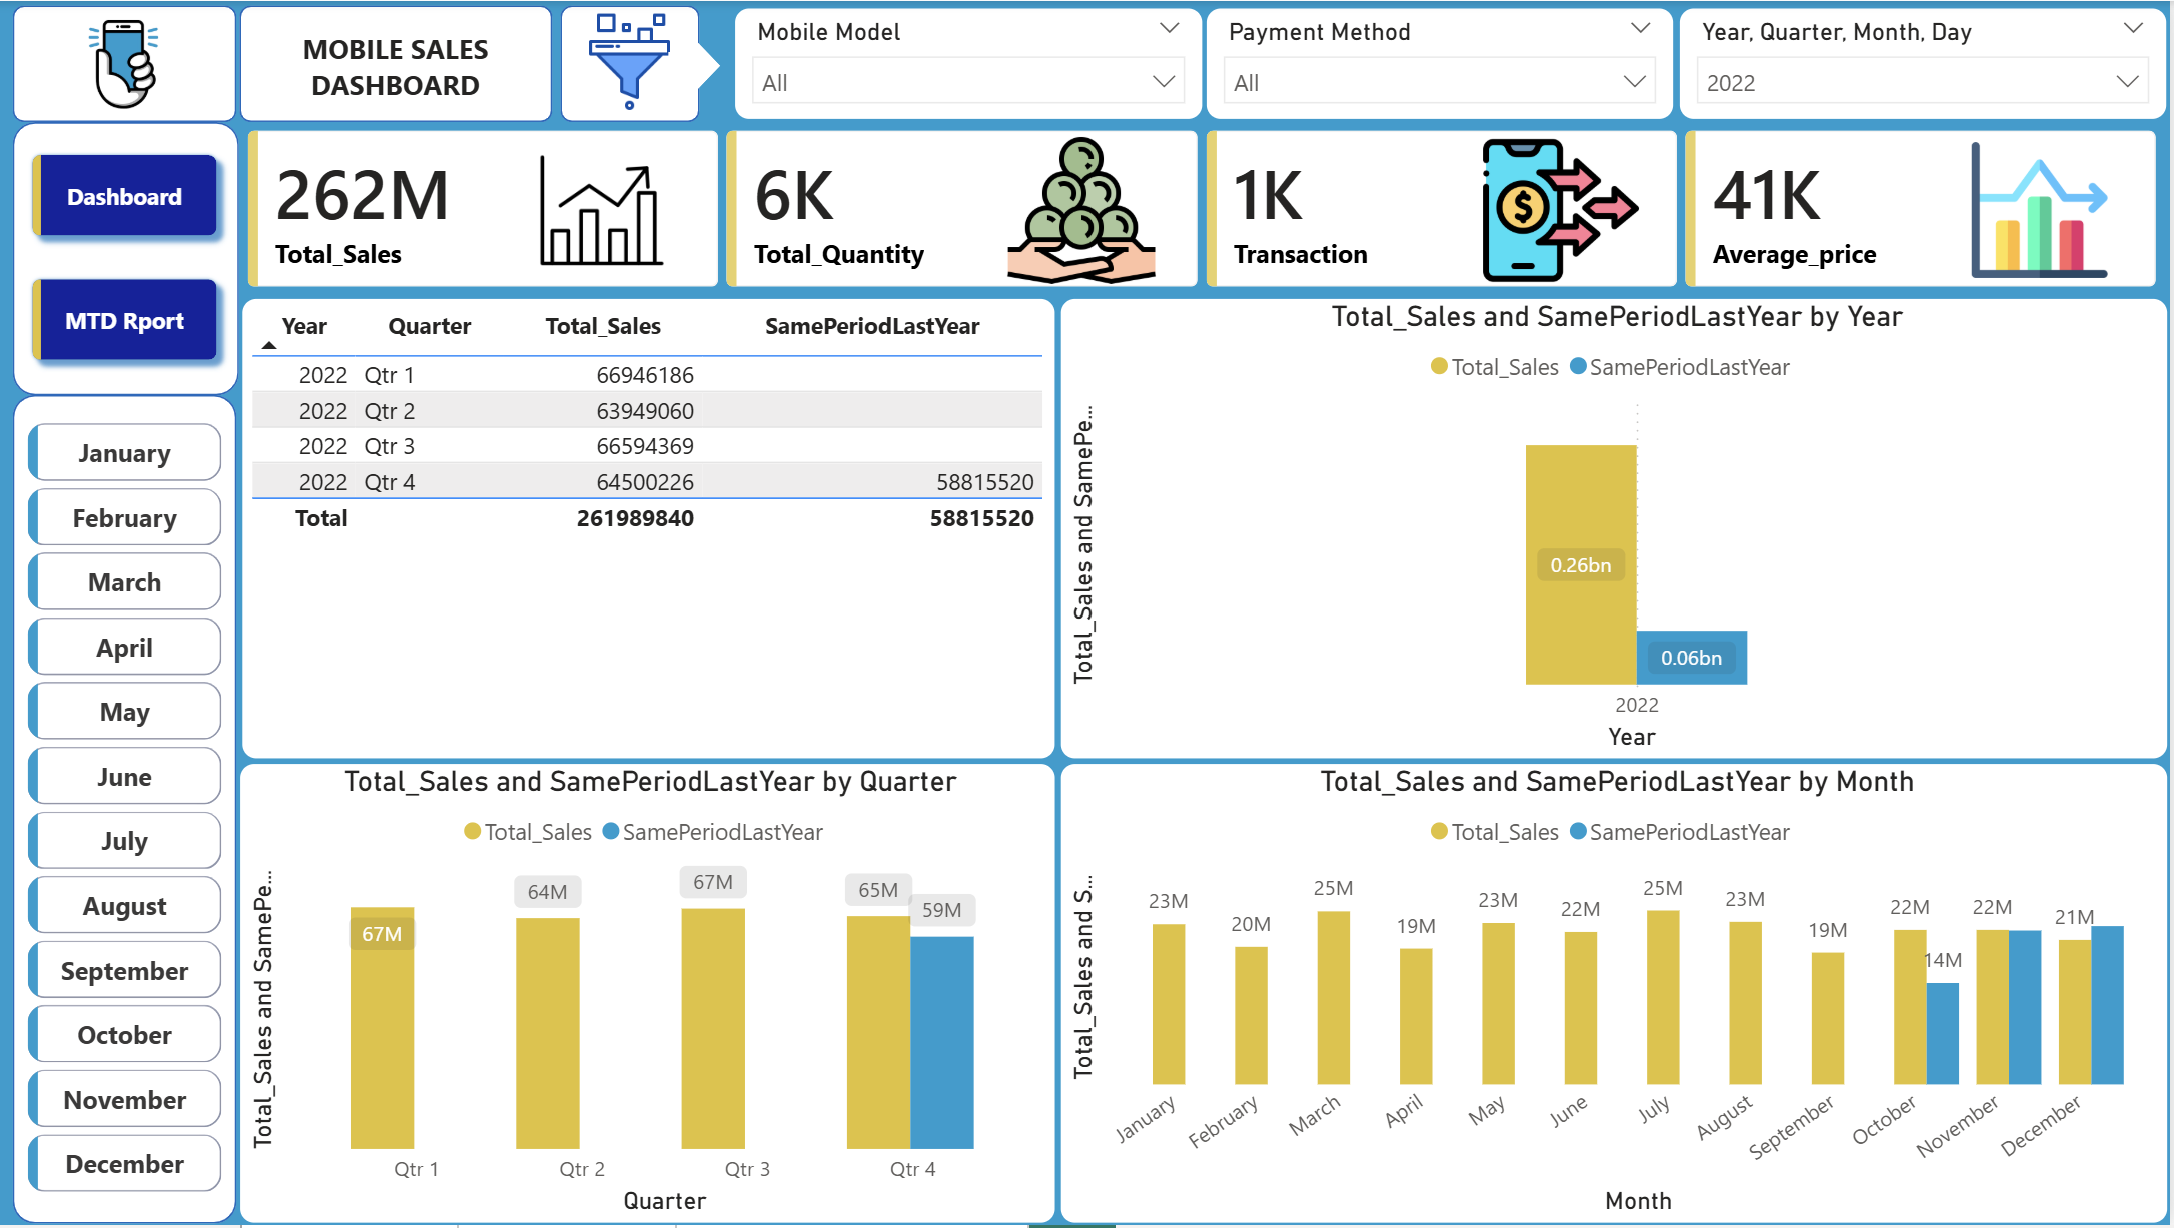

The dashboard page shown, as its layout file describes it:
{"tool":"powerbi","page":{"name":"Same Period Last Year","canvas":[1280,720],"ordinal":2},"visuals":[{"type":"shape","box":[10.2,2.9,131.8,68.8],"z":0},{"type":"image","box":[27.8,2.9,96.6,68.8],"z":1000},{"type":"shape","box":[10.2,71.7,133.2,161],"z":2000},{"type":"slicer","fields":{"Values":["Sales_data.Mobile Model"]},"box":[433.3,2.9,278.1,68.8],"z":4000},{"type":"slicer","fields":{"Values":["Sales_data.Payment Method"]},"box":[711.5,2.9,278.1,68.8],"z":5000},{"type":"slicer","fields":{"Values":["Custom_cal.date.Variation.Date Hierarchy.Year","Custom_cal.date.Variation.Date Hierarchy.Quarter","Custom_cal.date.Variation.Date Hierarchy.Month","Custom_cal.date.Variation.Date Hierarchy.Day"]},"box":[989.6,2.9,289.9,68.8],"z":6000},{"type":"shape","box":[332.3,2.9,82,68.8],"z":7000},{"type":"image","box":[341.1,5.9,65.9,58.6],"z":8000},{"type":"shape","box":[396.7,22,30.7,32.2],"z":9000},{"type":"shape","box":[143.5,2.9,184.5,68.8],"z":10000},{"type":"textbox","box":[156.6,11.7,158.1,52.7],"z":11000},{"type":"shape","box":[10.2,232.5,131.8,487.5],"z":13000},{"type":"advancedSlicerVisual","fields":{"Values":["Custom_cal.date.Variation.Date Hierarchy.Month"]},"box":[14.6,243,124.4,465.5],"z":14000},{"type":"tableEx","fields":{"Values":["Custom_cal.date.Variation.Date Hierarchy.Year","Custom_cal.date.Variation.Date Hierarchy.Quarter","Sales_data.Total_Sales","Sales_data.SamePeriodLastYear"]},"box":[143.5,174.2,481.6,273.8],"z":14001},{"type":"clusteredColumnChart","fields":{"Category":["Custom_cal.date.Variation.Date Hierarchy.Year","Custom_cal.date.Variation.Date Hierarchy.Quarter"],"Y":["Sales_data.Total_Sales","Sales_data.SamePeriodLastYear"]},"box":[625.1,174.2,654.4,273.8],"z":14002},{"type":"clusteredColumnChart","fields":{"Y":["Sales_data.Total_Sales","Sales_data.SamePeriodLastYear"],"Category":["Custom_cal.date.Variation.Date Hierarchy.Year","Custom_cal.date.Variation.Date Hierarchy.Quarter","Custom_cal.date.Variation.Date Hierarchy.Month","Custom_cal.date.Variation.Date Hierarchy.Day"]},"box":[625.1,446.5,654.4,273.8],"z":14003},{"type":"clusteredColumnChart","fields":{"Y":["Sales_data.Total_Sales","Sales_data.SamePeriodLastYear"],"Category":["Custom_cal.date.Variation.Date Hierarchy.Year","Custom_cal.date.Variation.Date Hierarchy.Quarter","Custom_cal.date.Variation.Date Hierarchy.Month","Custom_cal.date.Variation.Date Hierarchy.Day"]},"box":[142,446.5,483.1,273.8],"z":14004},{"type":"pageNavigator","box":[14.6,83.4,124.4,137.6],"z":14005},{"type":"cardVisual","fields":{"Data":["Sales_data.Total_Sales","Sales_data.Total_Quantity","Sales_data.Transaction","Sales_data.Average_price"]},"box":[143.5,71.7,1136,102.5],"z":14006}]}

Visuals, with their boxes in screenshot pixels (x1, y1, x2, y2), scaled from the page's 1280x720 canvas onto the 2174x1228 screenshot:
shape: [x1=17, y1=5, x2=241, y2=122]
image: [x1=47, y1=5, x2=211, y2=122]
shape: [x1=17, y1=122, x2=244, y2=397]
slicer - Sales_data.Mobile Model: [x1=736, y1=5, x2=1208, y2=122]
slicer - Sales_data.Payment Method: [x1=1208, y1=5, x2=1681, y2=122]
slicer - Custom_cal.date.Variation.Date Hierarchy.Year x Custom_cal.date.Variation.Date Hierarchy.Quarter: [x1=1681, y1=5, x2=2173, y2=122]
shape: [x1=564, y1=5, x2=704, y2=122]
image: [x1=579, y1=10, x2=691, y2=110]
shape: [x1=674, y1=38, x2=726, y2=92]
shape: [x1=244, y1=5, x2=557, y2=122]
textbox: [x1=266, y1=20, x2=534, y2=110]
shape: [x1=17, y1=397, x2=241, y2=1227]
advancedSlicerVisual - Custom_cal.date.Variation.Date Hierarchy.Month: [x1=25, y1=414, x2=236, y2=1208]
tableEx - Custom_cal.date.Variation.Date Hierarchy.Year x Custom_cal.date.Variation.Date Hierarchy.Quarter: [x1=244, y1=297, x2=1062, y2=764]
clusteredColumnChart - Custom_cal.date.Variation.Date Hierarchy.Year x Custom_cal.date.Variation.Date Hierarchy.Quarter: [x1=1062, y1=297, x2=2173, y2=764]
clusteredColumnChart - Sales_data.Total_Sales x Sales_data.SamePeriodLastYear: [x1=1062, y1=762, x2=2173, y2=1227]
clusteredColumnChart - Sales_data.Total_Sales x Sales_data.SamePeriodLastYear: [x1=241, y1=762, x2=1062, y2=1227]
pageNavigator: [x1=25, y1=142, x2=236, y2=377]
cardVisual - Sales_data.Total_Sales x Sales_data.Total_Quantity: [x1=244, y1=122, x2=2173, y2=297]
